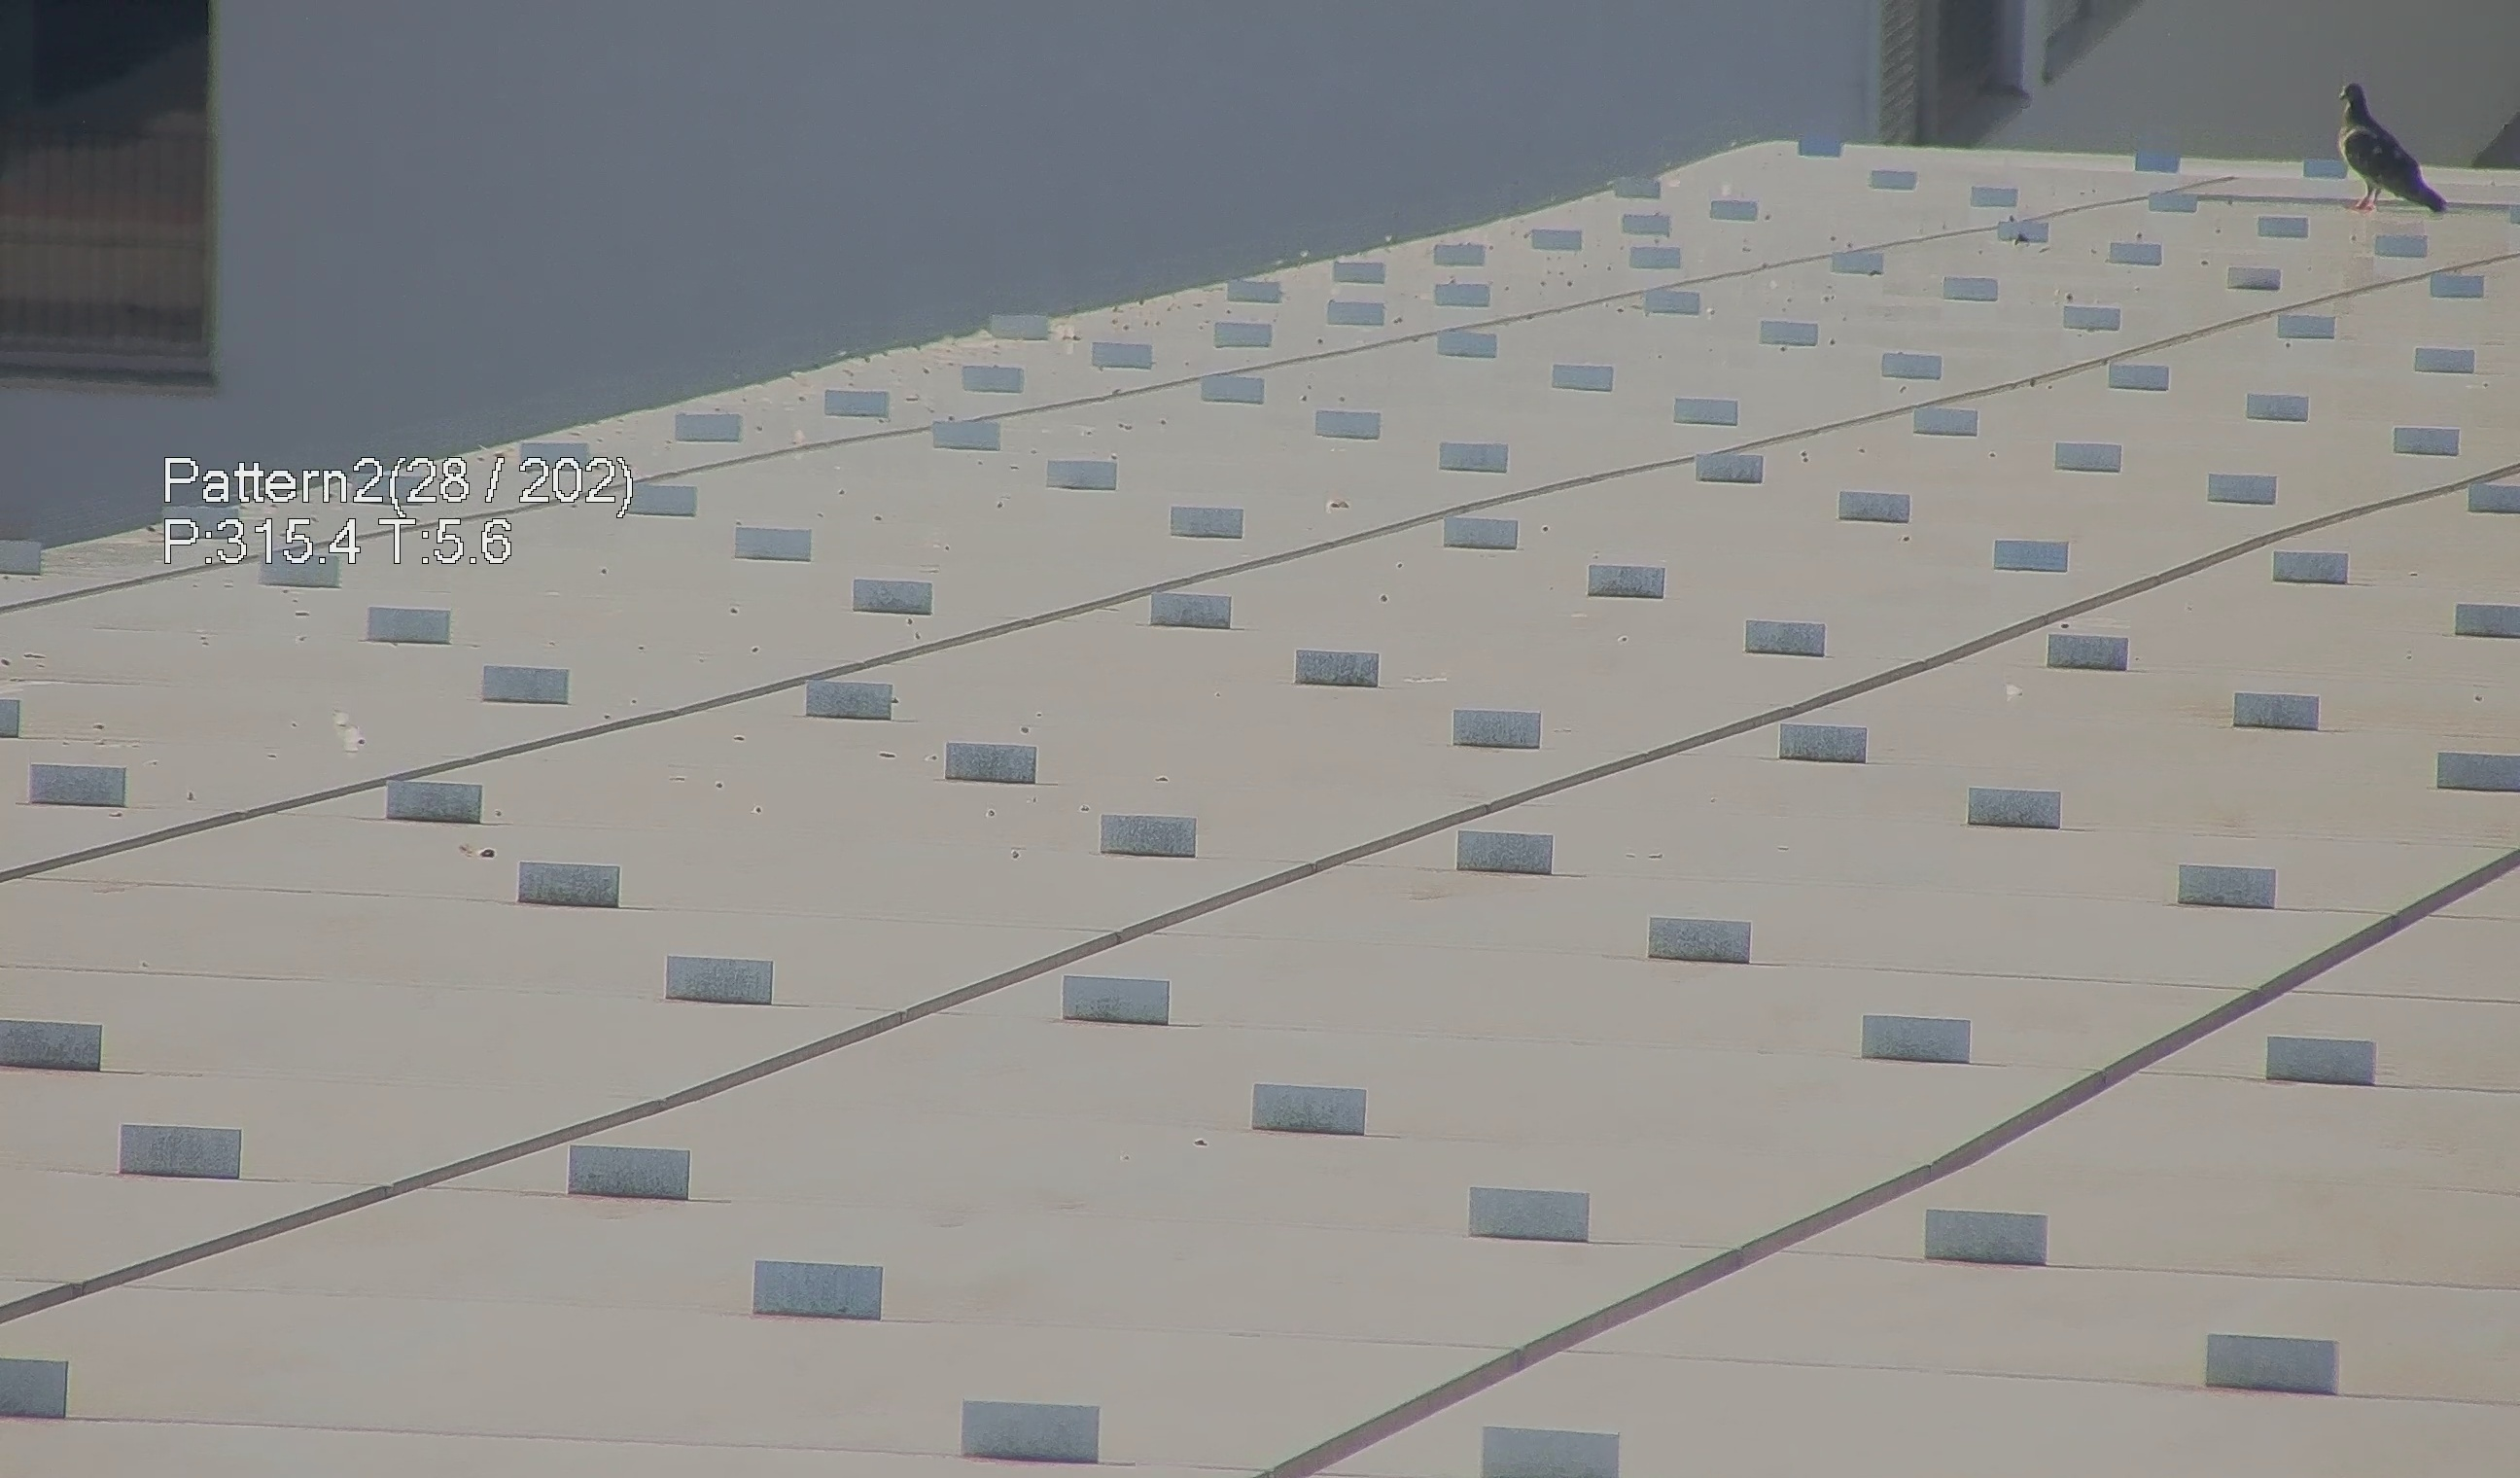Pigeon: (2332, 63, 2469, 222)
